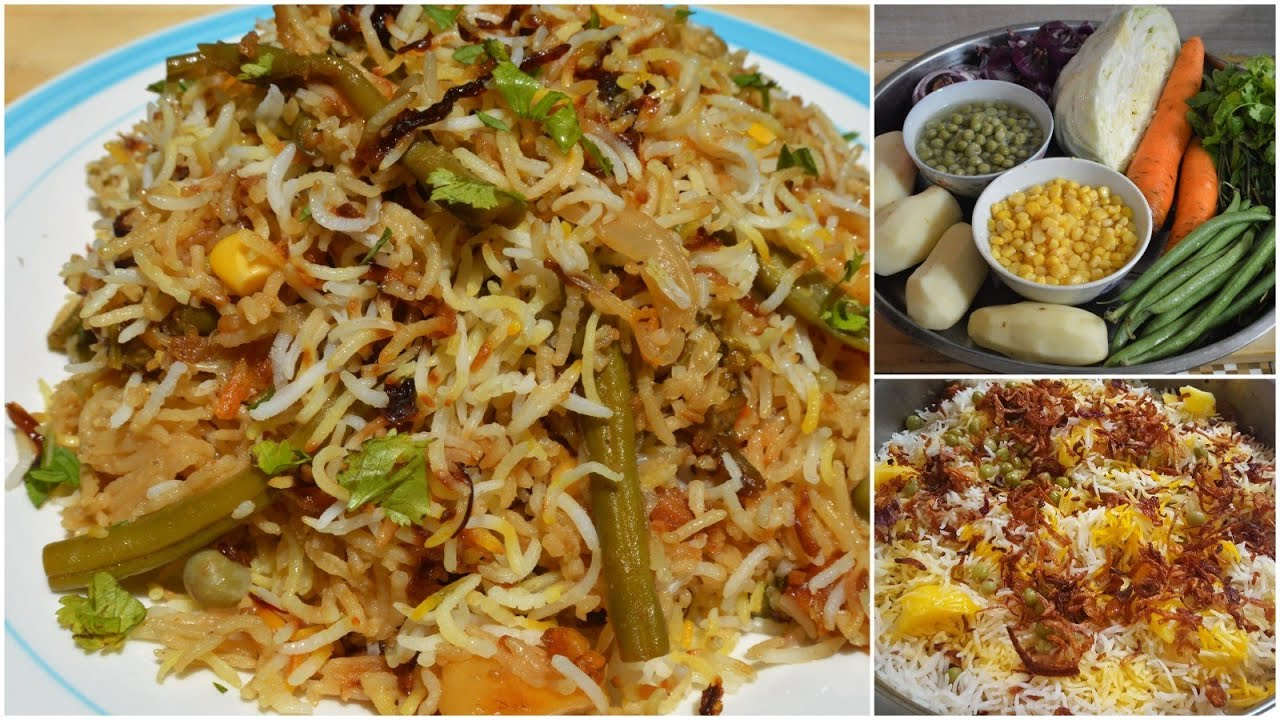Biryani: (35, 29, 844, 672), (889, 398, 1265, 709)
